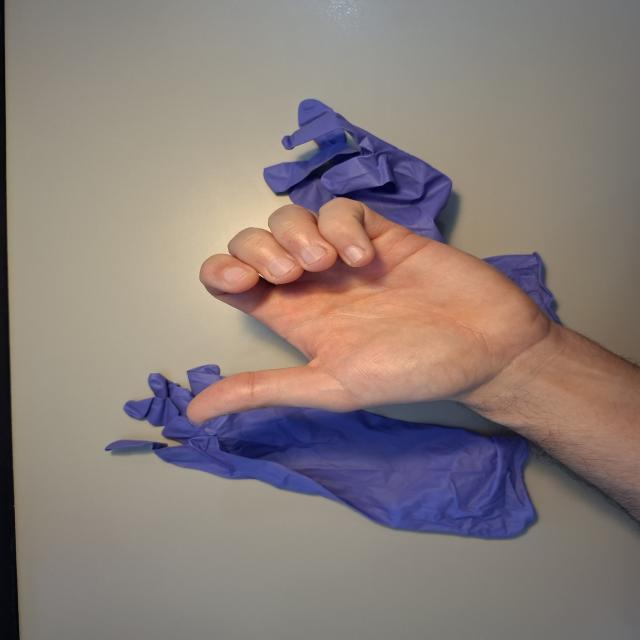glove_off: (185, 195, 568, 426)
